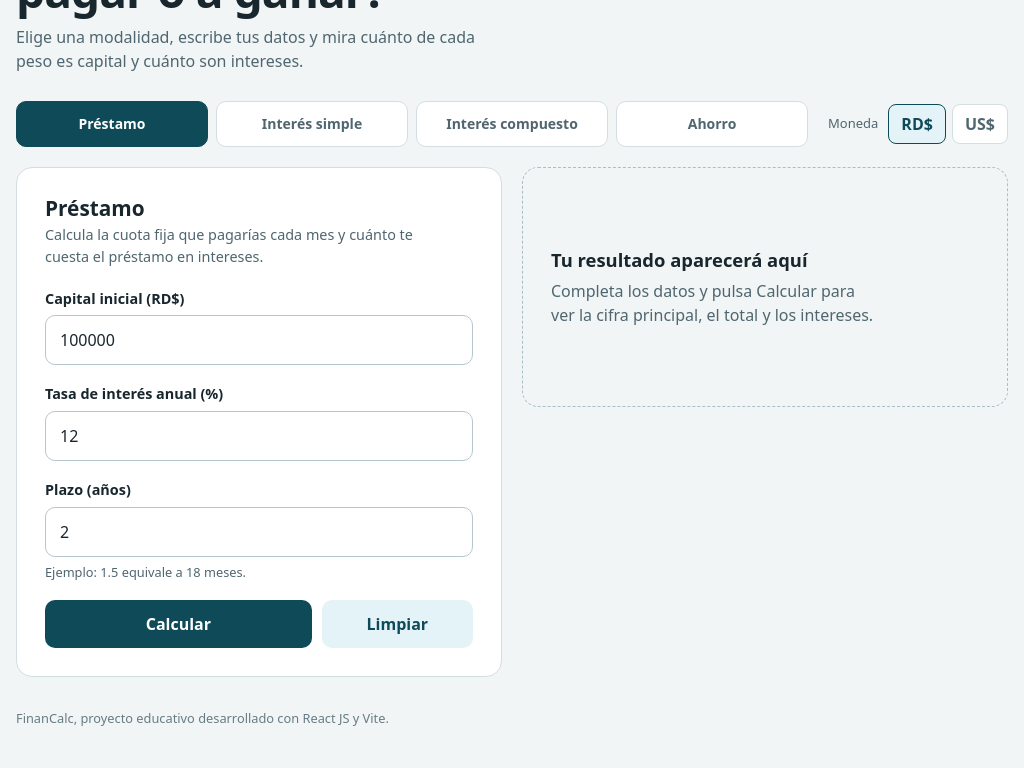
it: FinanCalc › guarda la simulación en el historial (localStorage)
(page scrolled)
Click the button "Calcular".
click(178, 624)  # box [45, 600, 312, 648]
(page scrolled)
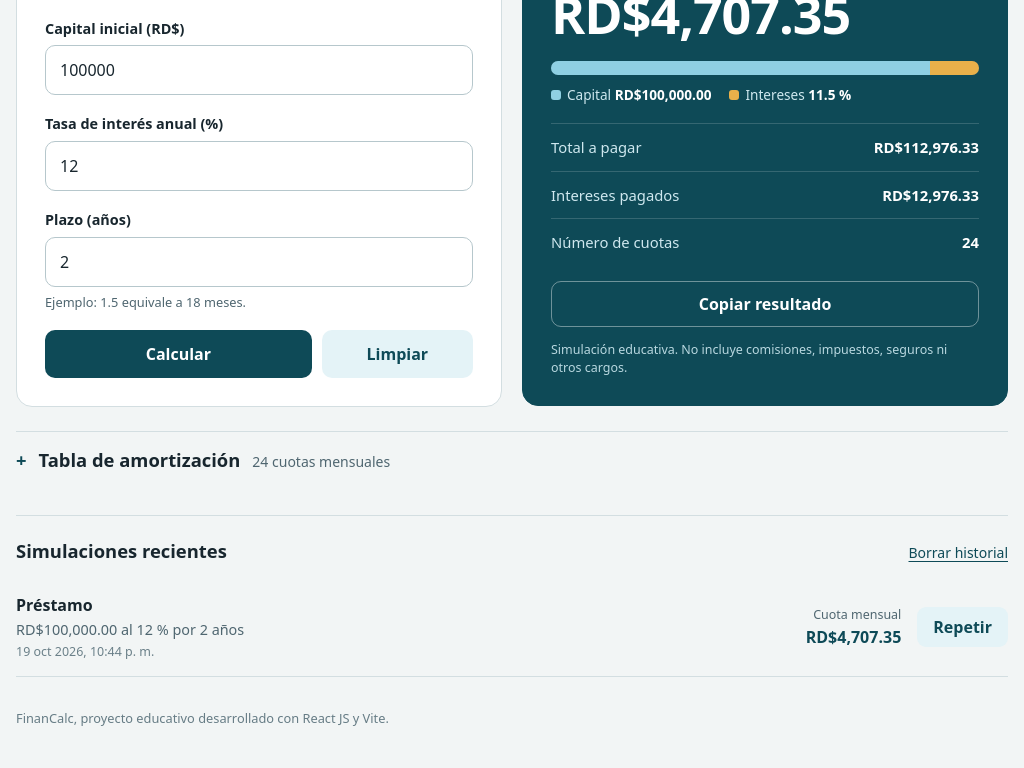
Expected: the heading "Simulaciones recientes" is shown, [16, 537, 227, 565]
